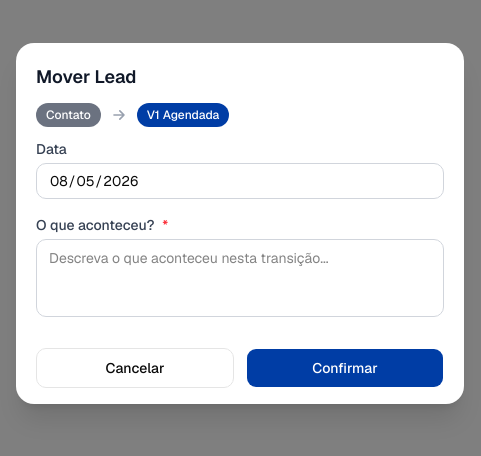
Test case: TransitionModal › requires observacao field to confirm transition
Click the button "Confirmar" at (345, 368), box [246,348,444,388]
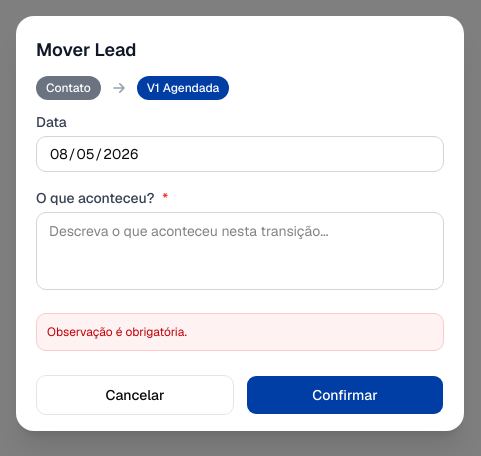
Check: the text "Observação" is shown, box [47,324,187,340]
